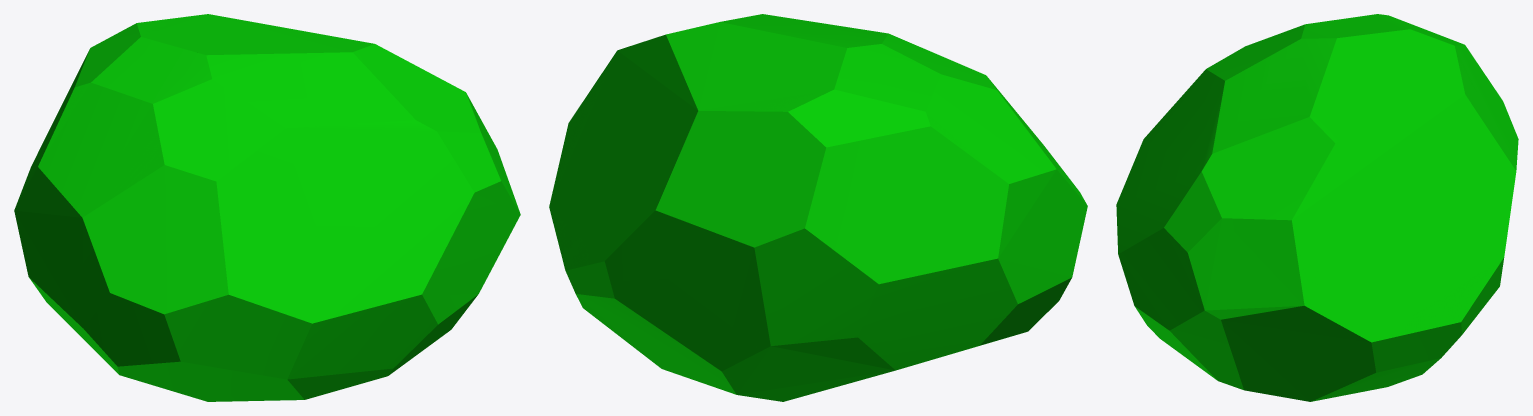
File: UCX_tsumiishi1r.fbx
3 views of the same model, side by side, from view 1: azimuth 30°, elevation 25°; view 2: azimuth 150°, elevation 25°; view 3: azimuth 270°, elevation 25° (orthographic). The views are drawn at different scales.
Visible parts, largest first — view 1: UCX_tsumiishi1r_low; view 2: UCX_tsumiishi1r_low; view 3: UCX_tsumiishi1r_low.
Boxes of the visible parts, bbox=[...] form: UCX_tsumiishi1r_low: bbox=[14, 14, 520, 401]; UCX_tsumiishi1r_low: bbox=[549, 14, 1087, 401]; UCX_tsumiishi1r_low: bbox=[1116, 14, 1518, 401].
Bounding box in the file's own units: 0.0964 × 0.0658 × 0.0802.
